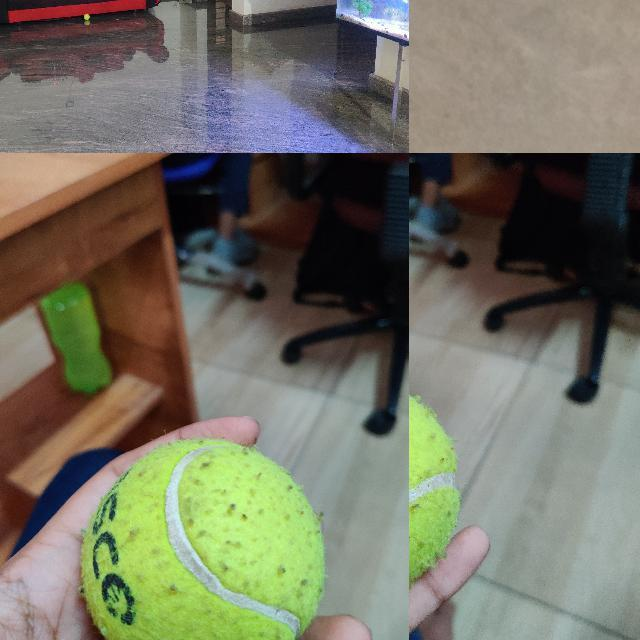tennis-ball: (81, 439, 323, 639), (409, 380, 461, 601), (83, 14, 89, 20)
